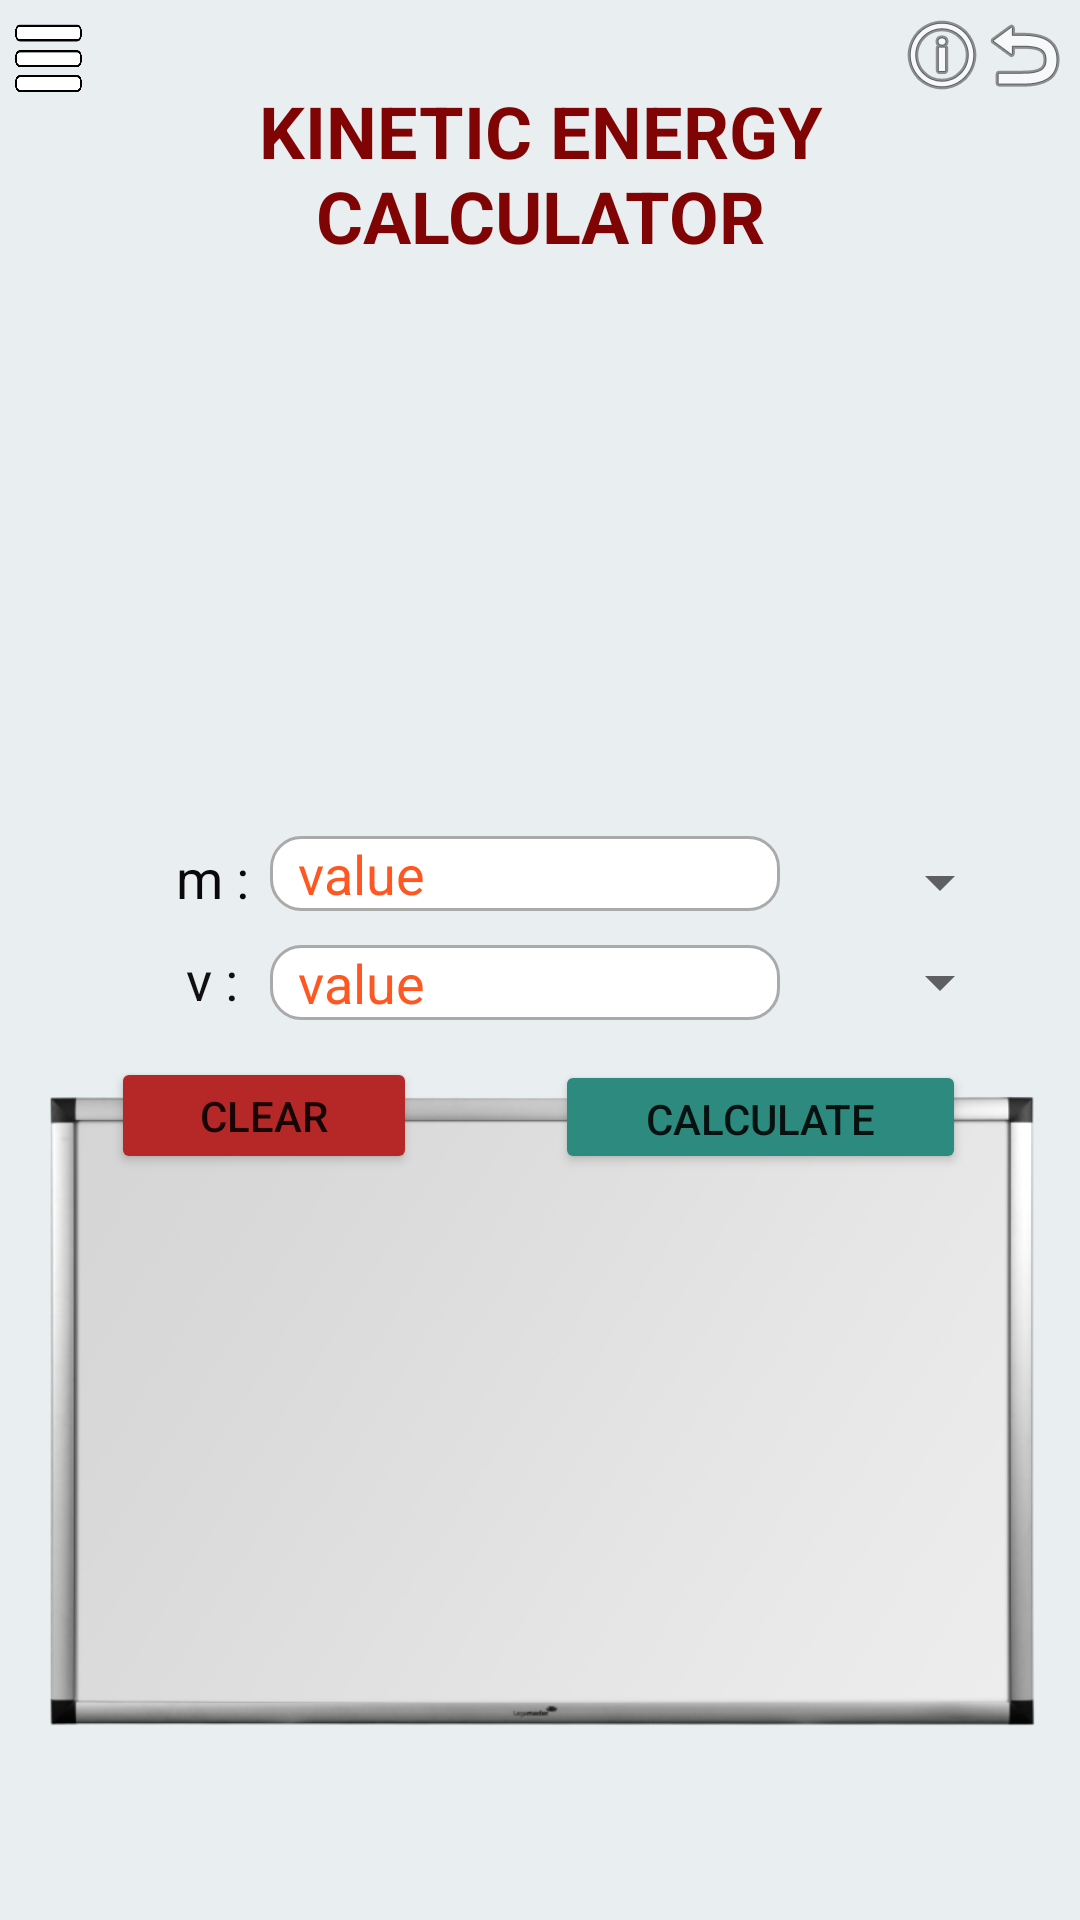

Icon click points for this 1080 × 1920 phone screenshot, format (x,y):
info details: (942,55)
menu: (48,58)
revert: (1025,55)
